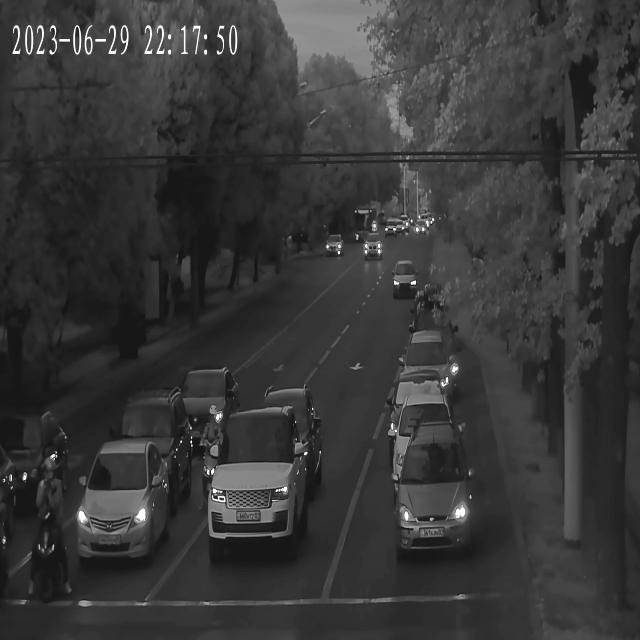Bus: (352, 207, 382, 240)
Car: (202, 408, 317, 554), (76, 445, 172, 566), (97, 392, 193, 510), (395, 424, 476, 562), (0, 407, 67, 517), (250, 387, 326, 482), (391, 392, 467, 479), (174, 364, 244, 441), (396, 333, 454, 403), (380, 376, 448, 434), (392, 262, 422, 301), (327, 234, 347, 257), (362, 240, 382, 260), (380, 221, 399, 239), (412, 223, 428, 236)
Motorcycle: (27, 472, 73, 606)
